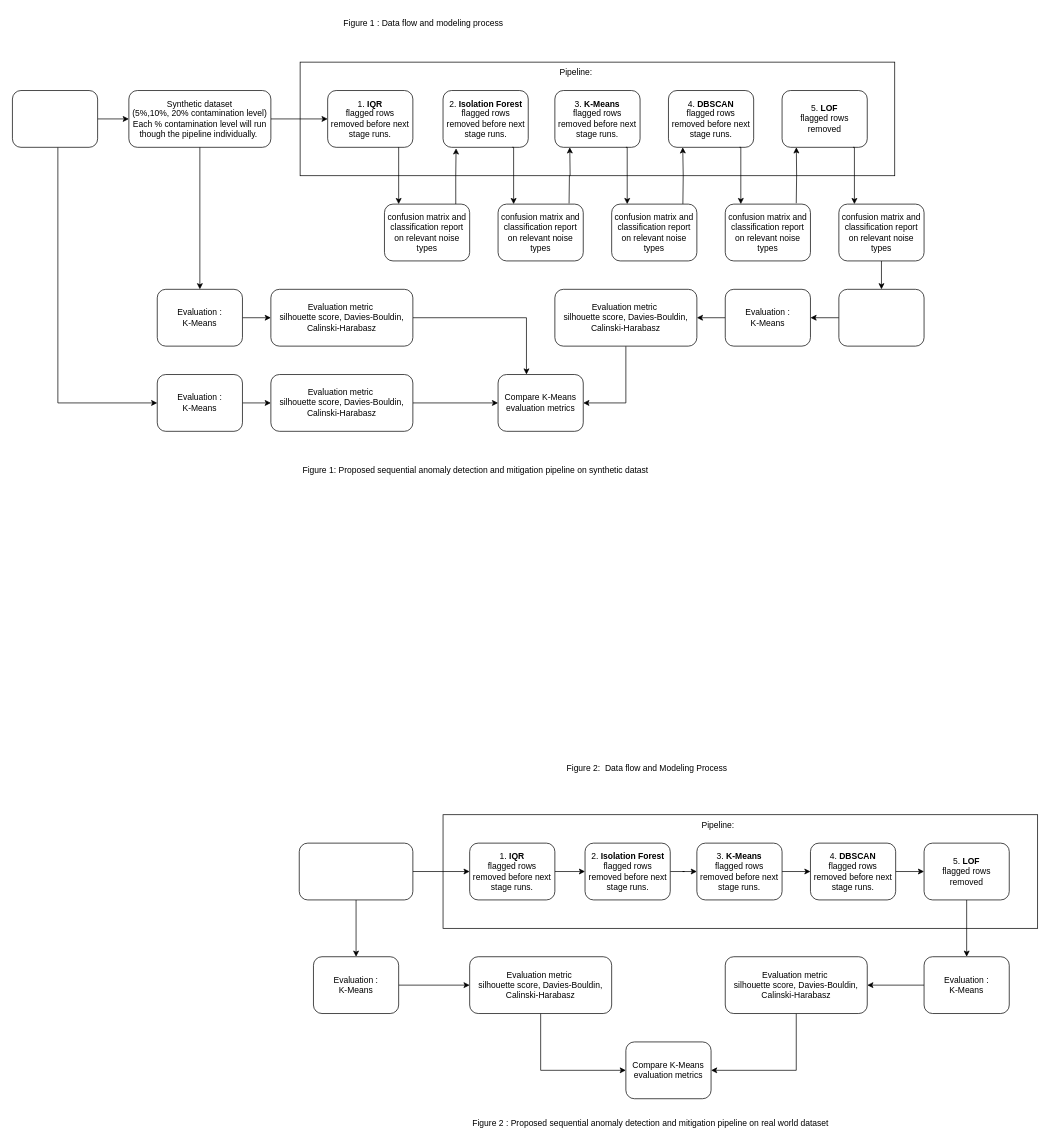
This 1050x1146 diagram has some shape labels left out. Each missing label, with the centre of its shape:
"Base synthetic dataset (clean, free from noise)" goes at pixel 55 118.
"confusion matrix and classification report on all noise" goes at pixel 881 317.
"Real world dataset: Gas Turbine CO and NOx Emission Data Set" goes at pixel 356 871.
